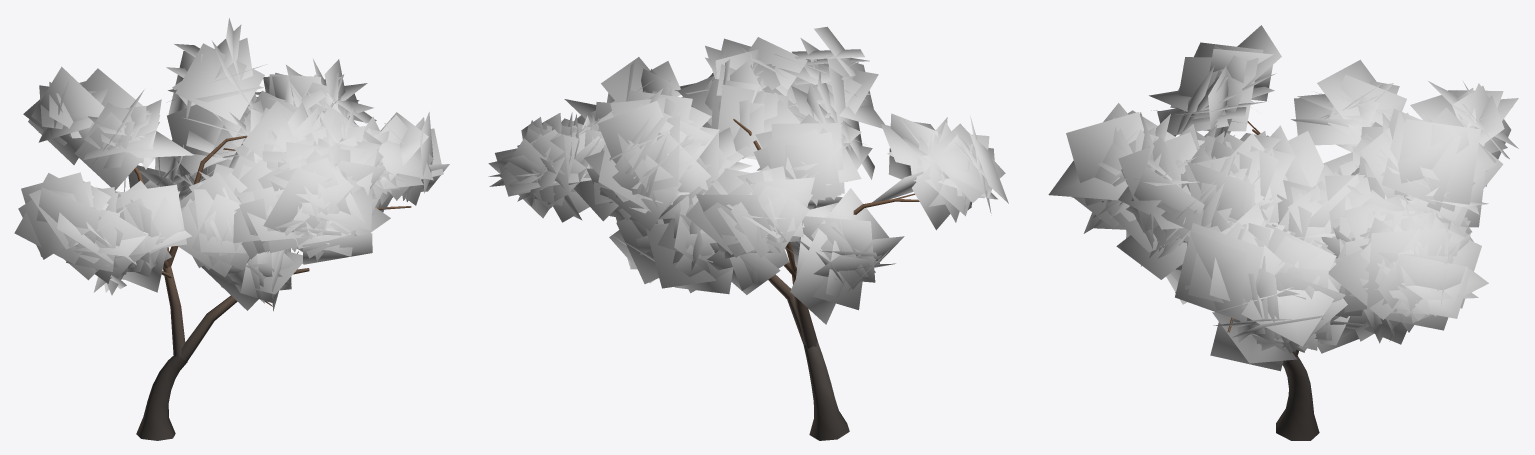
The picture shows the model from 3 angles, left to right: view 1: azimuth 30°, elevation 25°; view 2: azimuth 150°, elevation 25°; view 3: azimuth 270°, elevation 25°; orthographic projection. The views are drawn at different scales.
Visible parts, largest first — view 1: crown, trunk; view 2: crown, trunk; view 3: crown, trunk.
Part boxes in pixels (<box>): crown: <box>14,18,449,311</box>; trunk: <box>134,135,411,440</box>; crown: <box>488,26,1008,324</box>; trunk: <box>733,119,919,440</box>; crown: <box>1048,25,1518,371</box>; trunk: <box>1175,121,1319,440</box>.
Bounding box in the file's own units: 14.48 × 10.65 × 11.77.
